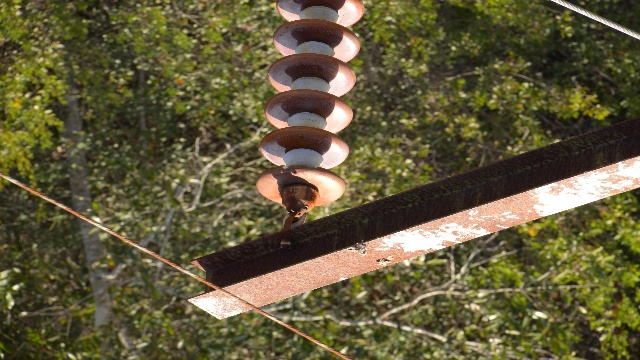insulator_unspecified: (253, 0, 366, 206)
